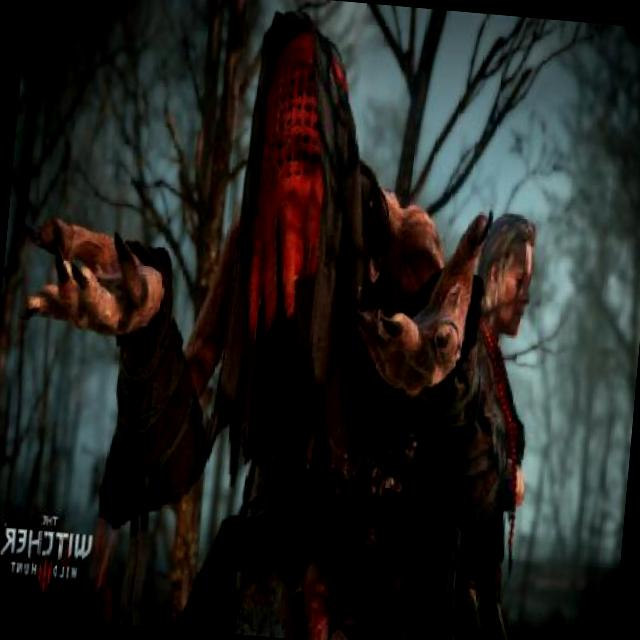Person: (88, 26, 494, 640), (423, 203, 551, 640)
